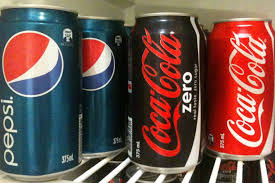can: (1, 3, 79, 183), (131, 10, 208, 173), (209, 15, 275, 160), (78, 11, 132, 159)
